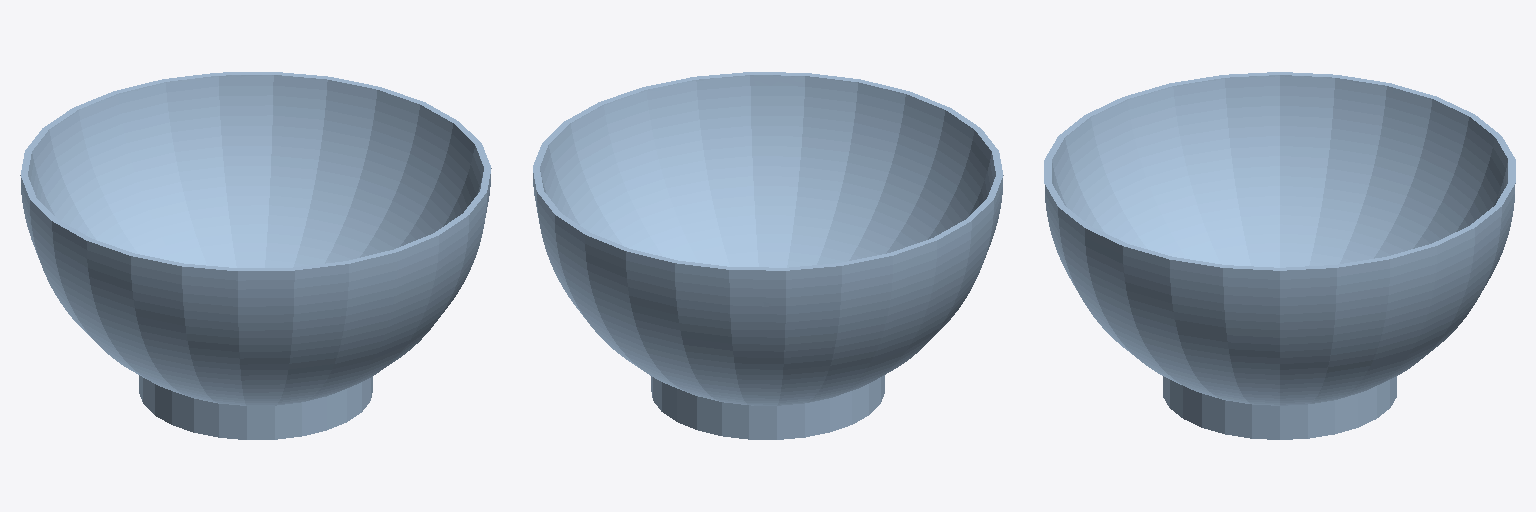
The robot description file, URDF, robot "bowl.urdf":
<?xml version="1.0" ?>
<robot name="bowl.urdf">
  <dynamics damping="0.5" friction="0.9"/>
  <link name="baseLink">
    <contact>
      <lateral_friction value="0.9"/>
      <rolling_friction value="0.5"/>
      <stiffness value="30000"/>
      <damping value="1000"/>
    </contact>
    <visual>
      <origin rpy="0 0 0" xyz="0 0 0"/>
      <geometry>
        <mesh filename="bowl/bowl.obj" scale="1.0 1.0 1.0"/>
      </geometry>
       <material name="mat">
        <color rgba="0.7 0.8 0.9 1"/>
      </material>
    </visual>
    <collision>
      <origin rpy="0 0 0" xyz="0 0 0"/>
      <geometry>
	 	<mesh filename="bowl/bowl.obj" scale="1.0 1.0 1.0"/>
      </geometry>
    </collision>
  </link>
</robot>

--- Facts derived from the render (not from the file) ---
Views: 3 orthographic renders of the robot side by side, from view 1: azimuth 30°, elevation 25°; view 2: azimuth 150°, elevation 25°; view 3: azimuth 270°, elevation 25°.
Model bowl.urdf with 1 links and 0 joints (none), rooted at baseLink, posed all joints at 0.
Visible links, largest first — view 1: baseLink; view 2: baseLink; view 3: baseLink.
Link boxes in pixels (left/top/right/bottom): baseLink: left=20, top=72, right=491, bottom=439; baseLink: left=533, top=72, right=1003, bottom=439; baseLink: left=1044, top=72, right=1515, bottom=439.
Bounding box of the posed robot: 0.1489 × 0.149 × 0.0766 m (x, y, z).
1 mesh visuals loaded from 1 distinct referenced files (1 OBJ).
